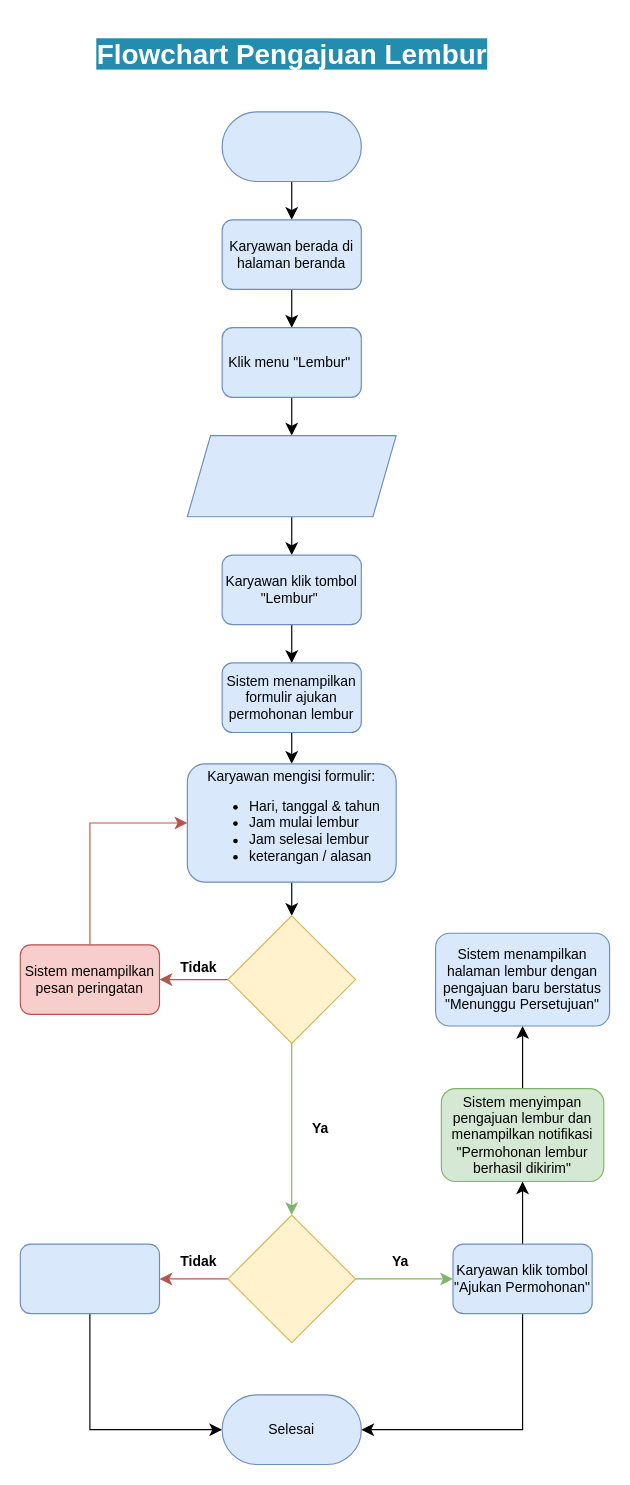
The diagram is 630 pixels wide and 1485 high, and some of its shapes have lost their labels. The shapes that lost their labels are listed below. From the top down, each one's centre as x and y in pixels, then its label:
the point at 291,146: Mulai
the point at 291,475: Sistem menampilkan halaman Lembur dengan riwayat pengajuan dan tombol "ajukan"
the point at 291,979: Apakah seluruh data terisi?
the point at 89,1278: Batal, kembali ke halaman Lembur
the point at 291,1278: Ajukan lembur?
